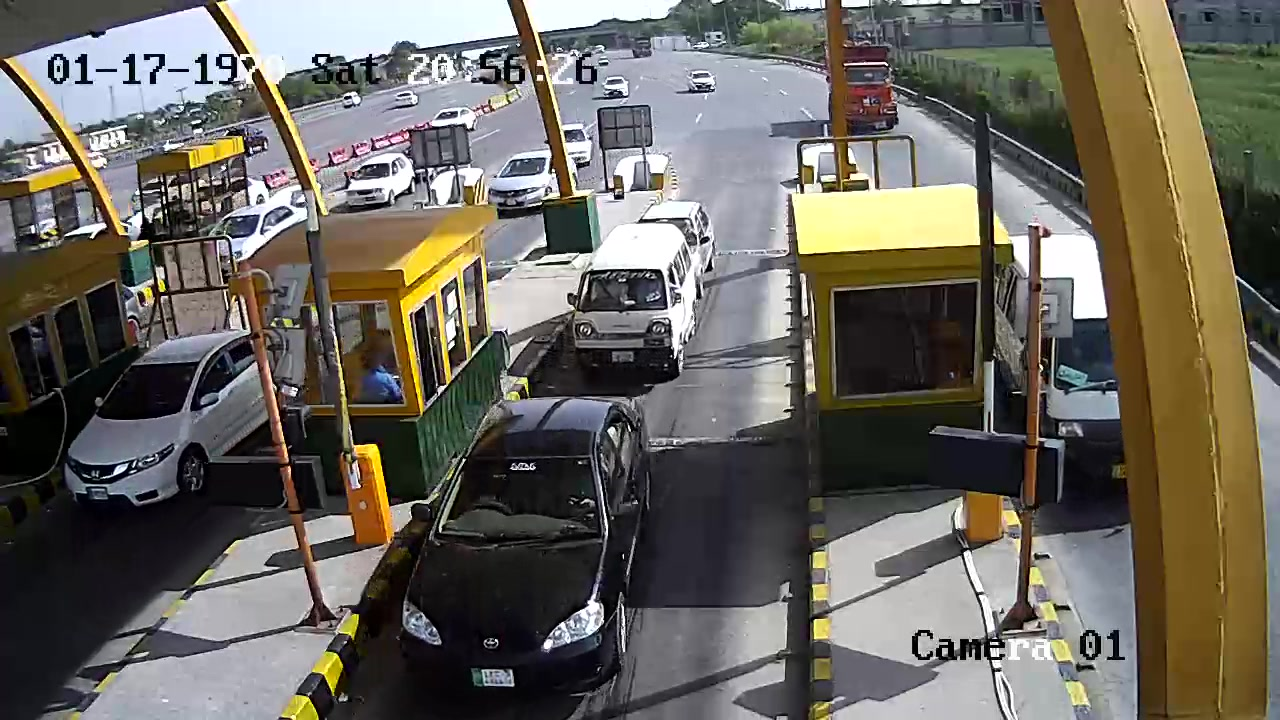F1: (391, 385, 658, 712)
